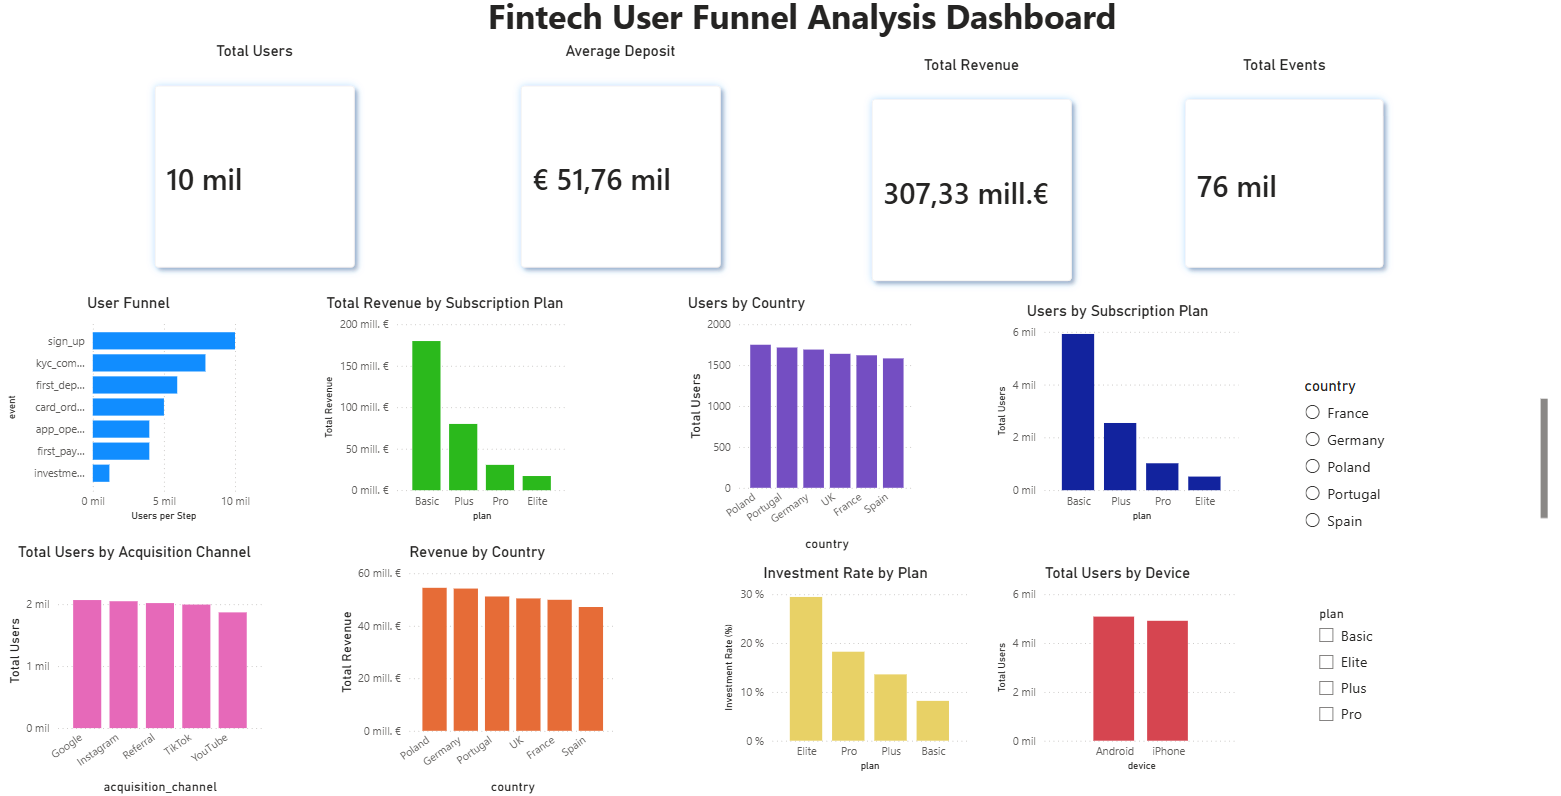

The page's visual inventory and layout, read from the dashboard file:
{"tool":"powerbi","page":{"name":"Página 1","canvas":[1800,900],"ordinal":0},"visuals":[{"type":"cardVisual","title":"Total Users ","fields":{"Data":["users.Total Users"]},"box":[151.7,60,280,280],"z":0},{"type":"cardVisual","title":"Total Revenue","fields":{"Data":["events.Total Revenue"]},"box":[948.3,75,280,280],"z":1000},{"type":"cardVisual","title":"Total Events","fields":{"Data":["events.Total Events"]},"box":[1296.7,75,278.3,265],"z":2000},{"type":"cardVisual","title":"Average Deposit","fields":{"Data":["events.Average Deposit"]},"box":[558.3,60,280,280],"z":3000},{"type":"columnChart","title":"Total Revenue by Subscription Plan","fields":{"Category":["users.plan"],"Y":["events.Total Revenue"]},"box":[363.3,340,280,256.7],"z":4000},{"type":"columnChart","title":"Users by Country","fields":{"Category":["users.country"],"Y":["users.Total Users"]},"box":[768.3,340,261.7,290],"z":5000},{"type":"columnChart","title":"Users by Subscription Plan","fields":{"Y":["users.Total Users"],"Category":["users.plan"]},"box":[1111.7,348.3,278.3,248.3],"z":6000},{"type":"columnChart","title":"Investment Rate  by Plan","fields":{"Y":["events.Investment Rate (%)"],"Category":["users.plan"]},"box":[808.3,640,280,235],"z":7000},{"type":"barChart","title":"User Funnel ","fields":{"Category":["events.event"],"Y":["events.Users per Step"]},"box":[11.7,340,280,256.7],"z":8000},{"type":"textbox","box":[0,0,1800,60],"z":9000},{"type":"columnChart","title":"Revenue by Country","fields":{"Y":["events.Total Revenue"],"Category":["users.country"]},"box":[380,616.7,318.3,283.3],"z":10000},{"type":"listSlicer","fields":{"Values":["users.country"]},"box":[1453.3,431.7,280,185],"z":10001},{"type":"slicer","fields":{"Values":["users.plan"]},"box":[1461.7,681.7,261.7,153.3],"z":10002},{"type":"columnChart","title":"Total Users by Acquisition Channel","fields":{"Y":["users.Total Users"],"Category":["users.acquisition_channel"]},"box":[11.7,616.7,293.3,283.3],"z":10003},{"type":"columnChart","title":"Total Users by Device","fields":{"Y":["users.Total Users"],"Category":["users.device"]},"box":[1112,640,278,235],"z":10004}]}

Visuals, with their boxes in screenshot pixels (x1, y1, x2, y2), scaled from the page's 1800x900 canvas onto the 1561x796 screenshot:
"Total Users " cardVisual: rect(132, 53, 374, 301)
"Total Revenue" cardVisual: rect(822, 66, 1065, 314)
"Total Events" cardVisual: rect(1125, 66, 1366, 301)
"Average Deposit" cardVisual: rect(484, 53, 727, 301)
"Total Revenue by Subscription Plan" columnChart: rect(315, 301, 558, 528)
"Users by Country" columnChart: rect(666, 301, 893, 557)
"Users by Subscription Plan" columnChart: rect(964, 308, 1205, 528)
"Investment Rate  by Plan" columnChart: rect(701, 566, 944, 774)
"User Funnel " barChart: rect(10, 301, 253, 528)
textbox: rect(0, 0, 1560, 53)
"Revenue by Country" columnChart: rect(330, 545, 606, 795)
listSlicer - users.country: rect(1260, 382, 1503, 545)
slicer - users.plan: rect(1268, 603, 1495, 739)
"Total Users by Acquisition Channel" columnChart: rect(10, 545, 265, 795)
"Total Users by Device" columnChart: rect(964, 566, 1205, 774)
